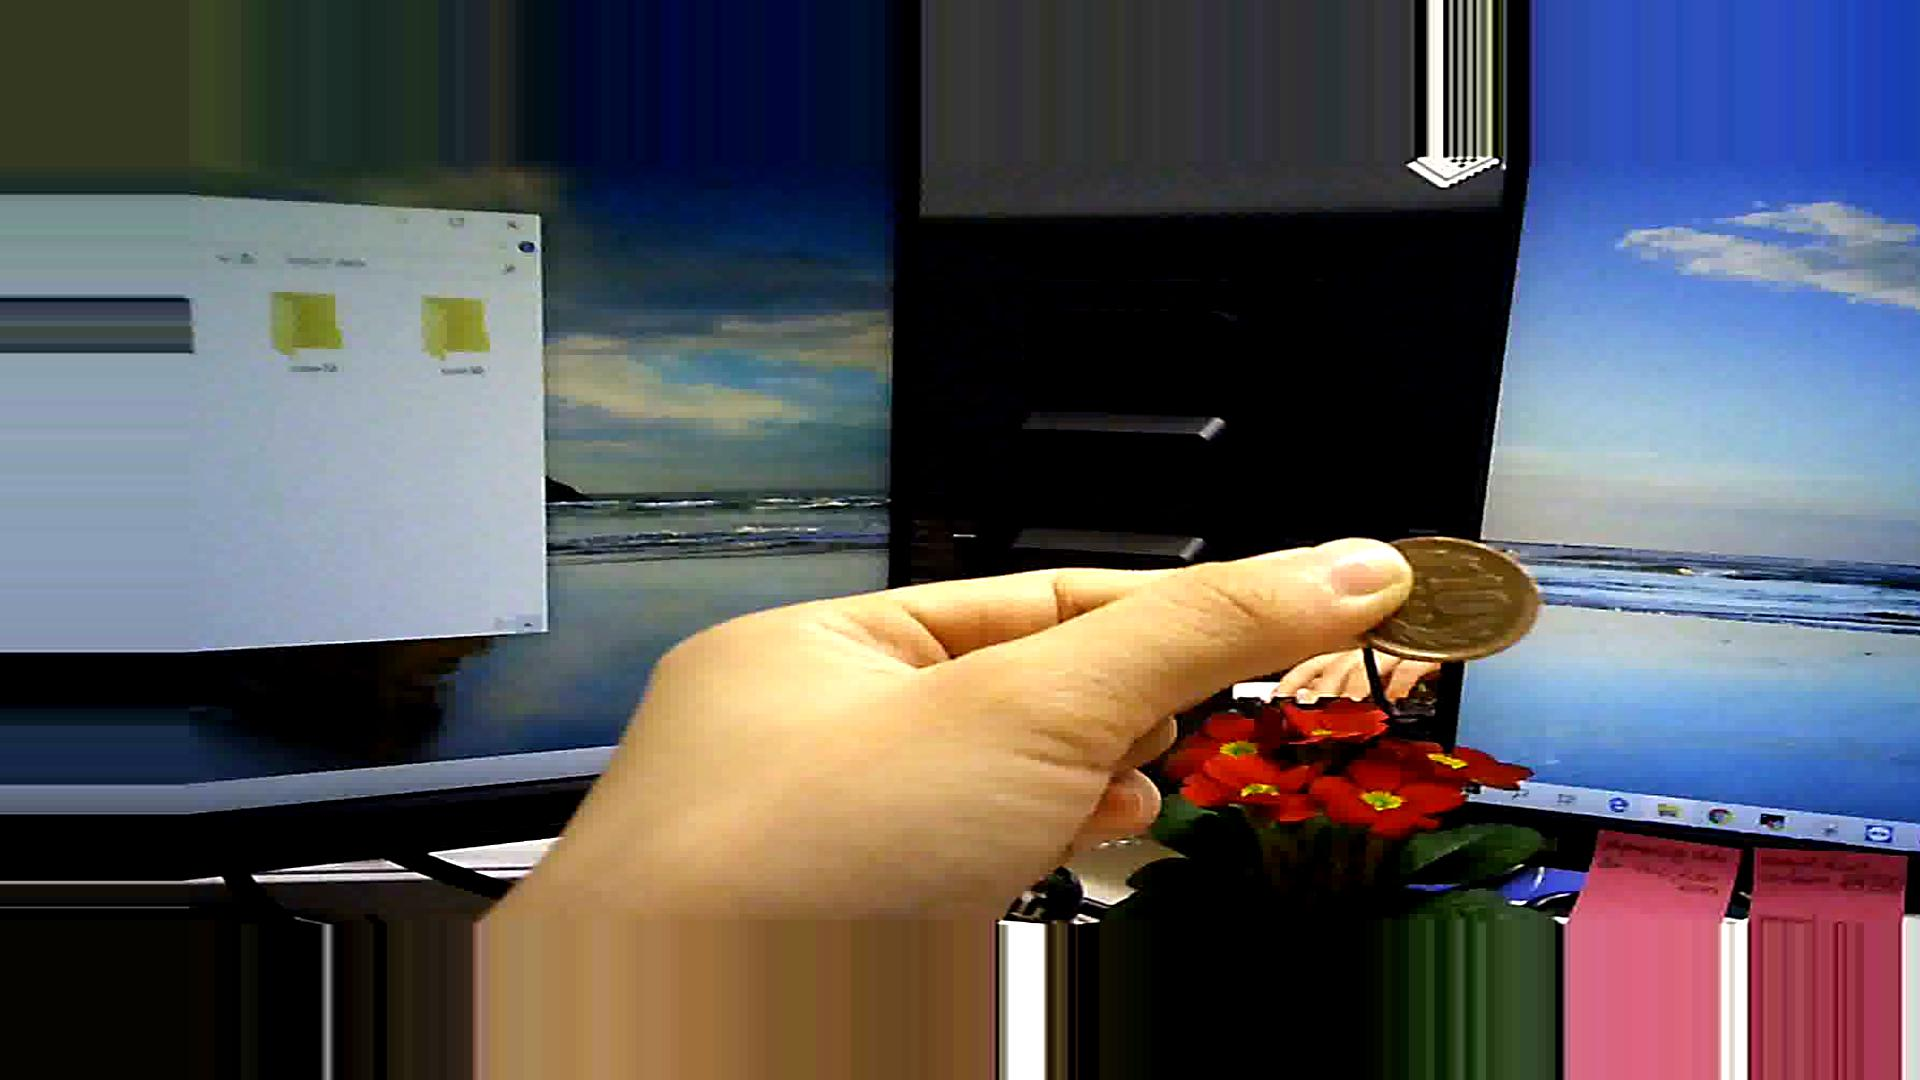10 Yen: (1361, 529, 1547, 665)
